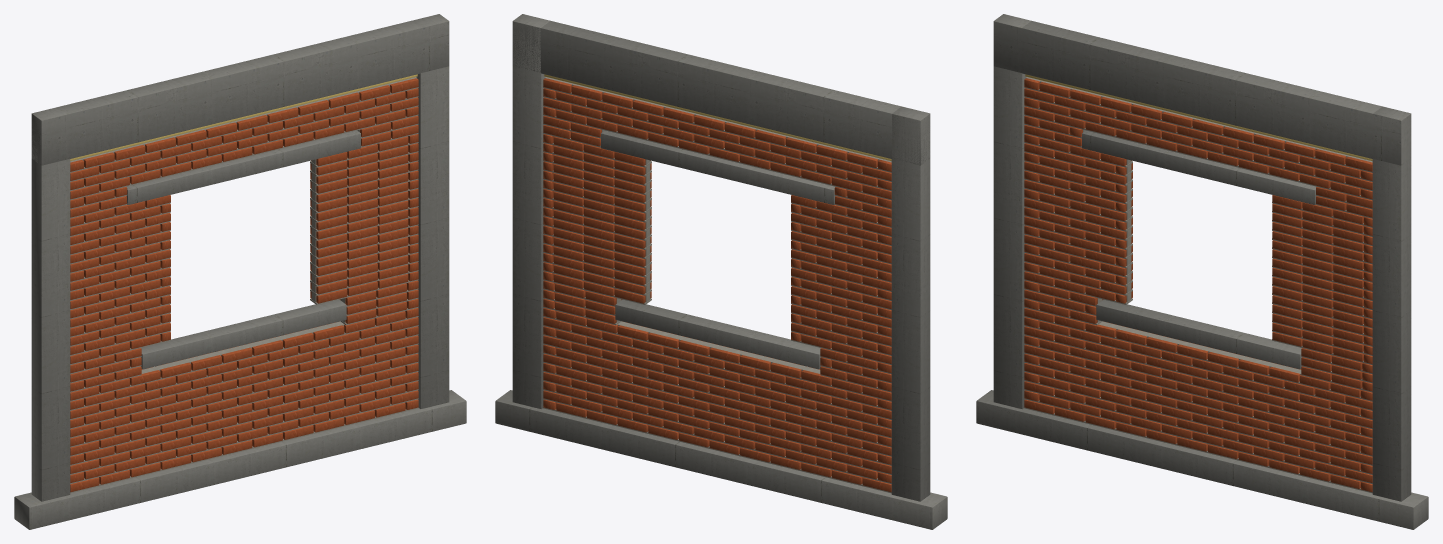
Rendered from KIT-ALV-03.glb.
The picture shows the model from 3 angles, left to right: view 1: azimuth 30°, elevation 25°; view 2: azimuth 150°, elevation 25°; view 3: azimuth 330°, elevation 25°; orthographic projection.
Visible parts, largest first — view 1: KIT-ALV-03_viga, KIT-ALV-03_pilar-1, KIT-ALV-03_base, KIT-ALV-03_pilar1, KIT-ALV-03_contraverga, KIT-ALV-03_verga, KIT-ALV-03, KIT-ALV-03_encunhamento, KIT-ALV-03_mio10_-120, KIT-ALV-03_mio35_-120, KIT-ALV-03_arg3_-120, KIT-ALV-03_arg6_-120 (+13 smaller); view 2: KIT-ALV-03_viga, KIT-ALV-03_pilar-1, KIT-ALV-03_base, KIT-ALV-03_pilar1, KIT-ALV-03_contraverga, KIT-ALV-03_verga, KIT-ALV-03, KIT-ALV-03_encunhamento, KIT-ALV-03_mio10_-120, KIT-ALV-03_mio35_-120, KIT-ALV-03_arg6_-120, KIT-ALV-03_arg35_-120 (+13 smaller); view 3: KIT-ALV-03_viga, KIT-ALV-03_pilar1, KIT-ALV-03_base, KIT-ALV-03_pilar-1, KIT-ALV-03_contraverga, KIT-ALV-03_verga, KIT-ALV-03, KIT-ALV-03_encunhamento, KIT-ALV-03_mio10_-120, KIT-ALV-03_mio35_-120, KIT-ALV-03_arg6_-120, KIT-ALV-03_arg8_-120 (+13 smaller).
Part boxes in pixels (x1,y1,x2,y2): KIT-ALV-03_viga: (31, 21, 449, 165); KIT-ALV-03_pilar-1: (31, 106, 70, 501); KIT-ALV-03_base: (14, 390, 466, 529); KIT-ALV-03_pilar1: (411, 14, 449, 408); KIT-ALV-03_contraverga: (141, 299, 346, 369); KIT-ALV-03_verga: (126, 130, 360, 204); KIT-ALV-03: (310, 123, 418, 325); KIT-ALV-03_encunhamento: (70, 74, 417, 160); KIT-ALV-03_mio10_-120: (98, 311, 405, 385); KIT-ALV-03_mio35_-120: (70, 77, 417, 162); KIT-ALV-03_arg3_-120: (70, 380, 418, 465); KIT-ALV-03_arg6_-120: (70, 352, 418, 438); KIT-ALV-03_viga: (512, 21, 930, 165); KIT-ALV-03_pilar-1: (891, 106, 930, 501); KIT-ALV-03_base: (495, 390, 947, 529); KIT-ALV-03_pilar1: (512, 14, 550, 408); KIT-ALV-03_contraverga: (615, 299, 820, 369); KIT-ALV-03_verga: (601, 130, 835, 204); KIT-ALV-03: (543, 123, 651, 325); KIT-ALV-03_encunhamento: (544, 74, 891, 160); KIT-ALV-03_mio10_-120: (556, 311, 863, 385); KIT-ALV-03_mio35_-120: (544, 77, 891, 162); KIT-ALV-03_arg6_-120: (543, 352, 891, 438); KIT-ALV-03_arg35_-120: (543, 86, 891, 172); KIT-ALV-03_viga: (993, 21, 1401, 165); KIT-ALV-03_pilar1: (1372, 106, 1411, 501); KIT-ALV-03_base: (976, 390, 1428, 529); KIT-ALV-03_pilar-1: (993, 14, 1031, 408); KIT-ALV-03_contraverga: (1096, 299, 1301, 369); KIT-ALV-03_verga: (1082, 130, 1316, 204); KIT-ALV-03: (1272, 194, 1372, 392); KIT-ALV-03_encunhamento: (1025, 74, 1372, 160); KIT-ALV-03_mio10_-120: (1098, 321, 1301, 374); KIT-ALV-03_mio35_-120: (1025, 77, 1372, 162); KIT-ALV-03_arg6_-120: (1024, 352, 1372, 438); KIT-ALV-03_arg8_-120: (1024, 334, 1372, 419).
Bounding box in the file's own units: 3 × 2.65 × 0.18.
Materials: 4 (4 with a texture image).
